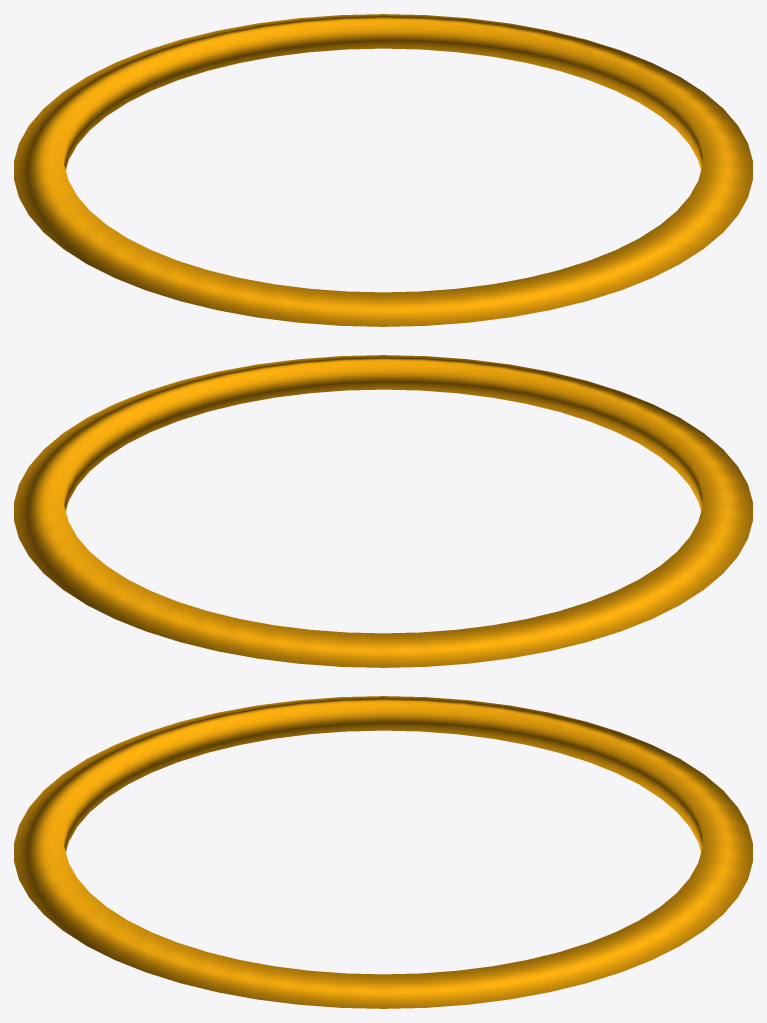
File: bomb explosion.fbx
The picture shows the model from 3 angles, top to bottom: view 1: azimuth 30°, elevation 25°; view 2: azimuth 150°, elevation 25°; view 3: azimuth 270°, elevation 25°; orthographic projection.
Visible parts, largest first — view 1: torus2; view 2: torus2; view 3: torus2.
Part boxes in pixels (x1,y1,x2,y2): torus2: [14, 14, 752, 326]; torus2: [14, 355, 752, 667]; torus2: [14, 696, 752, 1008].
Size of the model in its own units: 1665 by 65.54 by 1662.
1 material, 1 textured.
